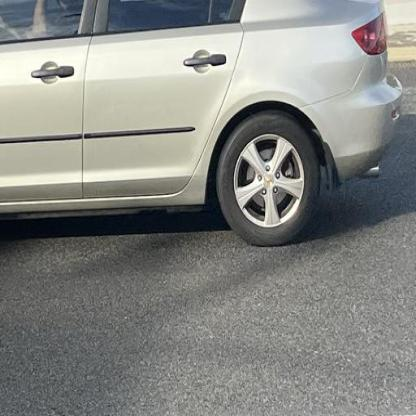Tire: (216, 109, 320, 246)
